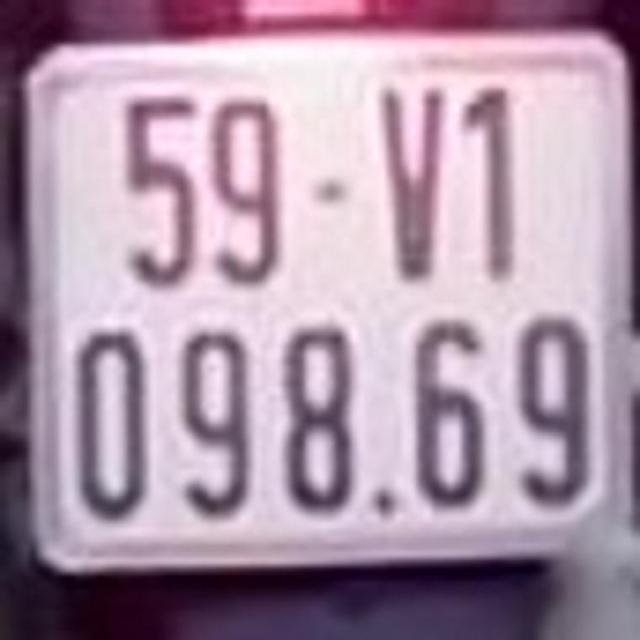0: (68, 319, 150, 524)
1: (459, 81, 525, 282)
5: (120, 90, 199, 293)
6: (408, 305, 490, 512)
8: (280, 306, 356, 512)
9: (519, 298, 590, 514), (178, 316, 252, 518), (211, 87, 281, 284)
V: (378, 82, 451, 277)
